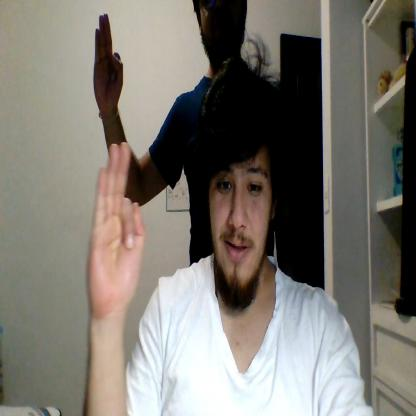F: (86, 141, 145, 311), (94, 14, 124, 108)
